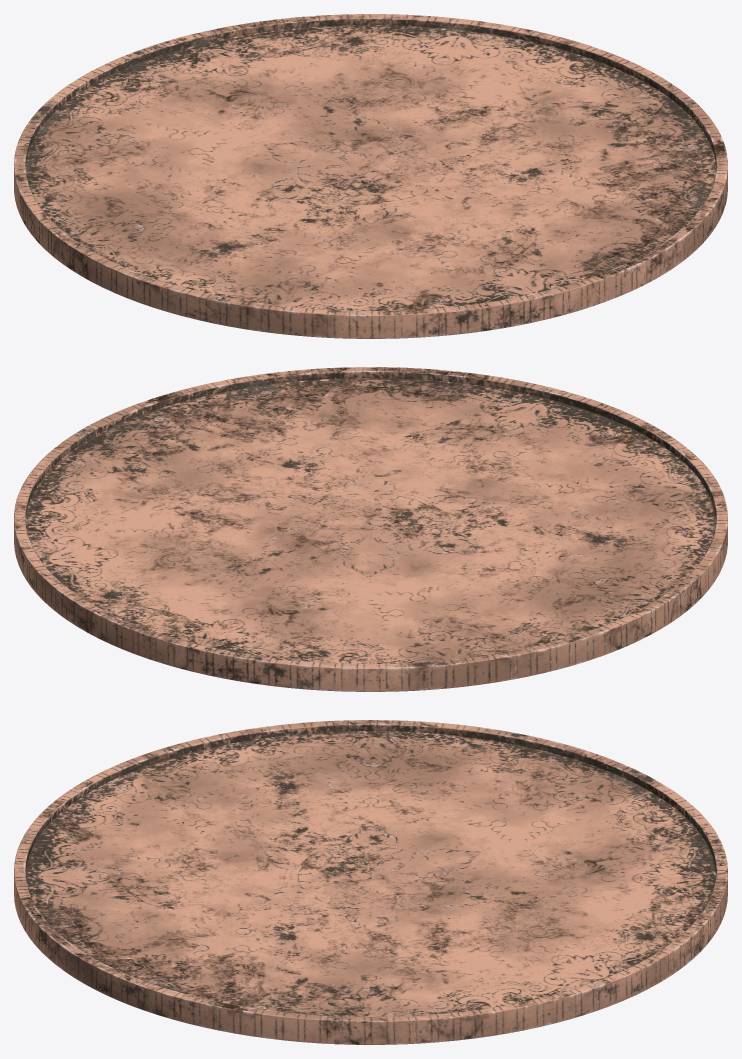
The model's file is coin.fbx.
3 renders of one model, top to bottom at view 1: azimuth 30°, elevation 25°; view 2: azimuth 150°, elevation 25°; view 3: azimuth 270°, elevation 25°, orthographic.
Visible parts, largest first — view 1: Coin Copper Ornamental; view 2: Coin Copper Ornamental; view 3: Coin Copper Ornamental.
Part boxes in pixels (left/top/right/bottom): Coin Copper Ornamental: left=14, top=14, right=727, bottom=338; Coin Copper Ornamental: left=14, top=367, right=727, bottom=691; Coin Copper Ornamental: left=14, top=720, right=727, bottom=1044.
Size of the model in its own units: 3.44 by 0.1256 by 3.44.
